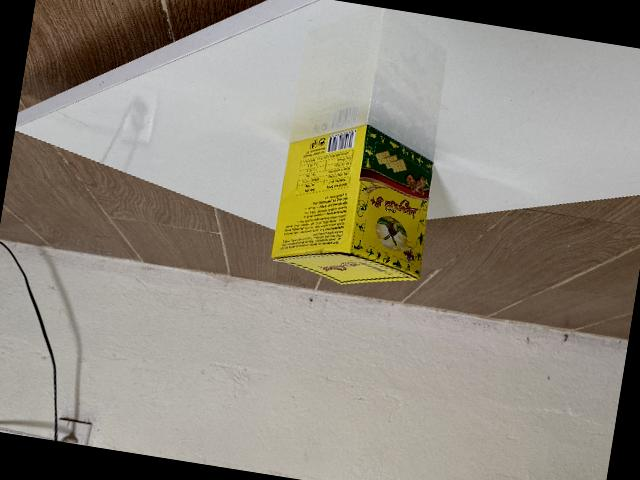luong_kho: (269, 121, 433, 283)
